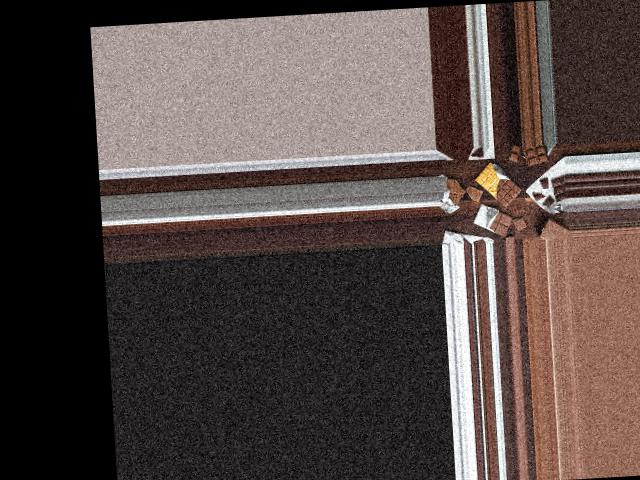chocolate: (474, 201, 513, 241)
